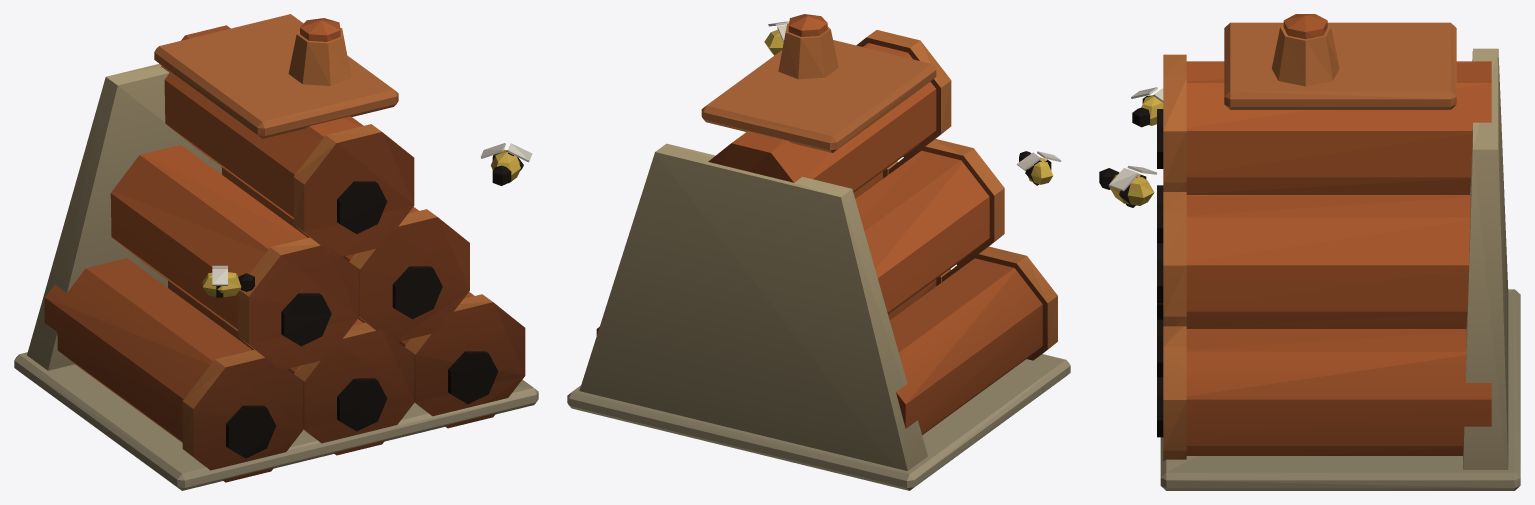
The model's file is clay_hive.glb.
3 views of the same model, side by side, from view 1: azimuth 30°, elevation 25°; view 2: azimuth 150°, elevation 25°; view 3: azimuth 270°, elevation 25° (orthographic). The views are drawn at different scales.
Parts seen in each view (by area): view 1: clay_hive; view 2: clay_hive; view 3: clay_hive.
Boxes of the visible parts, bbox=[...] form: clay_hive: bbox=[14, 14, 538, 490]; clay_hive: bbox=[567, 14, 1070, 490]; clay_hive: bbox=[1099, 14, 1520, 490].
Bounding box in the file's own units: 0.7672 × 0.7591 × 0.7252.
